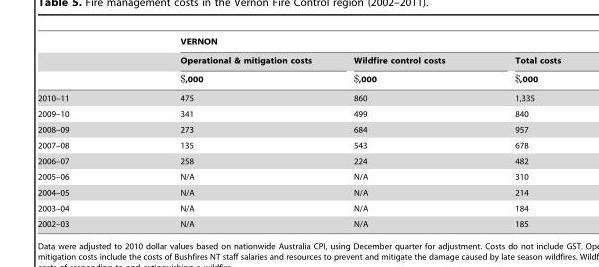table: (37, 36, 560, 228)
table column: (123, 36, 332, 228), (332, 36, 479, 228), (37, 36, 123, 228), (479, 36, 560, 228)
table column header: (37, 36, 560, 88)
table row: (37, 68, 560, 88), (37, 50, 560, 68), (37, 88, 560, 105), (37, 105, 560, 121), (37, 121, 560, 137), (37, 137, 560, 153), (37, 168, 560, 184), (37, 184, 560, 200), (37, 200, 560, 216), (37, 153, 560, 168), (37, 36, 560, 50), (37, 216, 560, 228)
table spanning cell: (123, 50, 332, 88), (123, 36, 560, 50), (332, 50, 479, 88), (479, 50, 560, 88)
